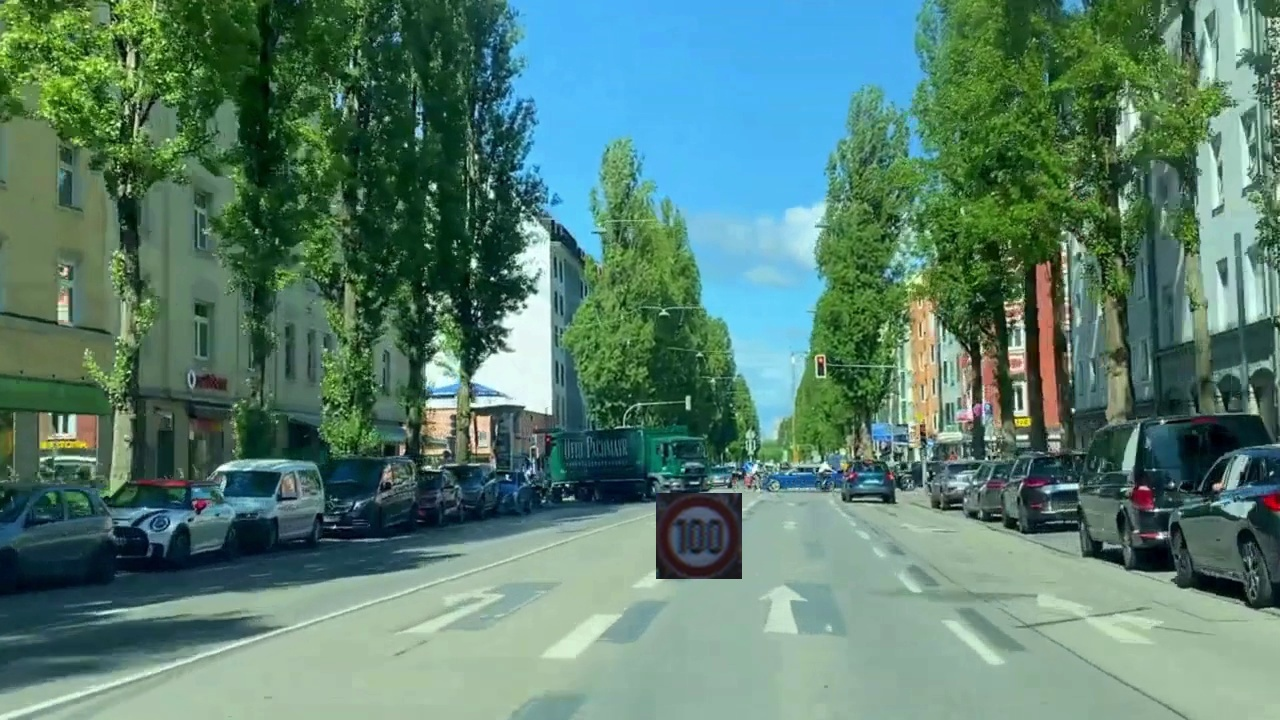Speed 100: (656, 493, 742, 579)
